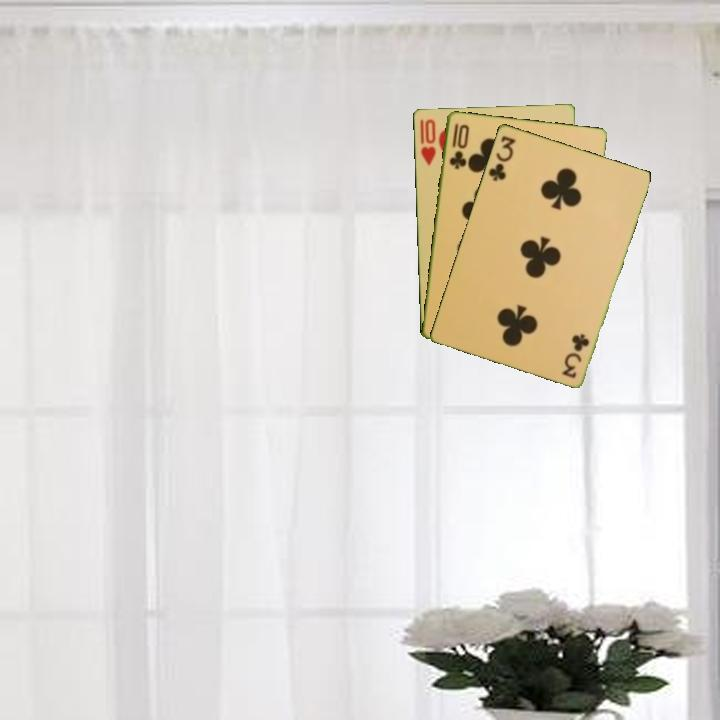10c: (445, 119, 471, 171)
10h: (416, 115, 438, 168)
3c: (485, 132, 519, 184), (559, 330, 592, 381)
